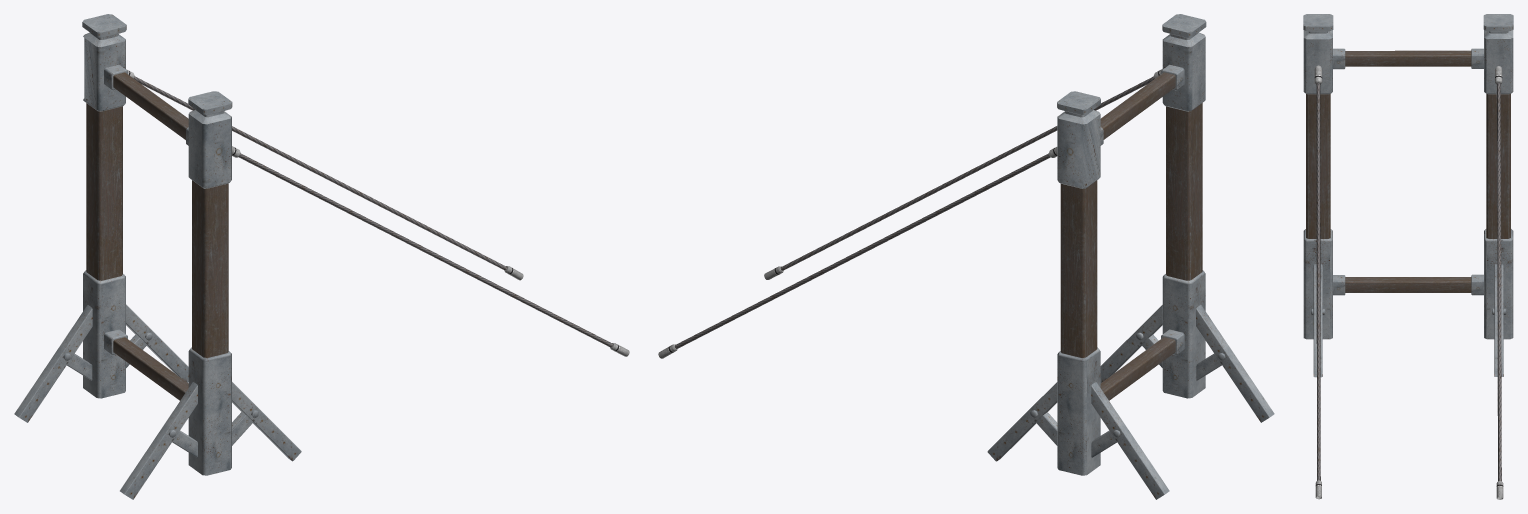
The model's file is Ob_WoodScafRopeSupport_RC.fbx.
3 views of the same model, side by side, from view 1: azimuth 30°, elevation 25°; view 2: azimuth 150°, elevation 25°; view 3: azimuth 270°, elevation 25° (orthographic). The views are drawn at different scales.
Visible parts, largest first — view 1: Ob_WoodScafRopeSupport_RC; view 2: Ob_WoodScafRopeSupport_RC; view 3: Ob_WoodScafRopeSupport_RC.
Part boxes in pixels (bbox=[...]): Ob_WoodScafRopeSupport_RC: bbox=[14, 14, 629, 499]; Ob_WoodScafRopeSupport_RC: bbox=[658, 14, 1274, 499]; Ob_WoodScafRopeSupport_RC: bbox=[1303, 14, 1513, 499].
Bounding box in the file's own units: 1146 × 816 × 480.
